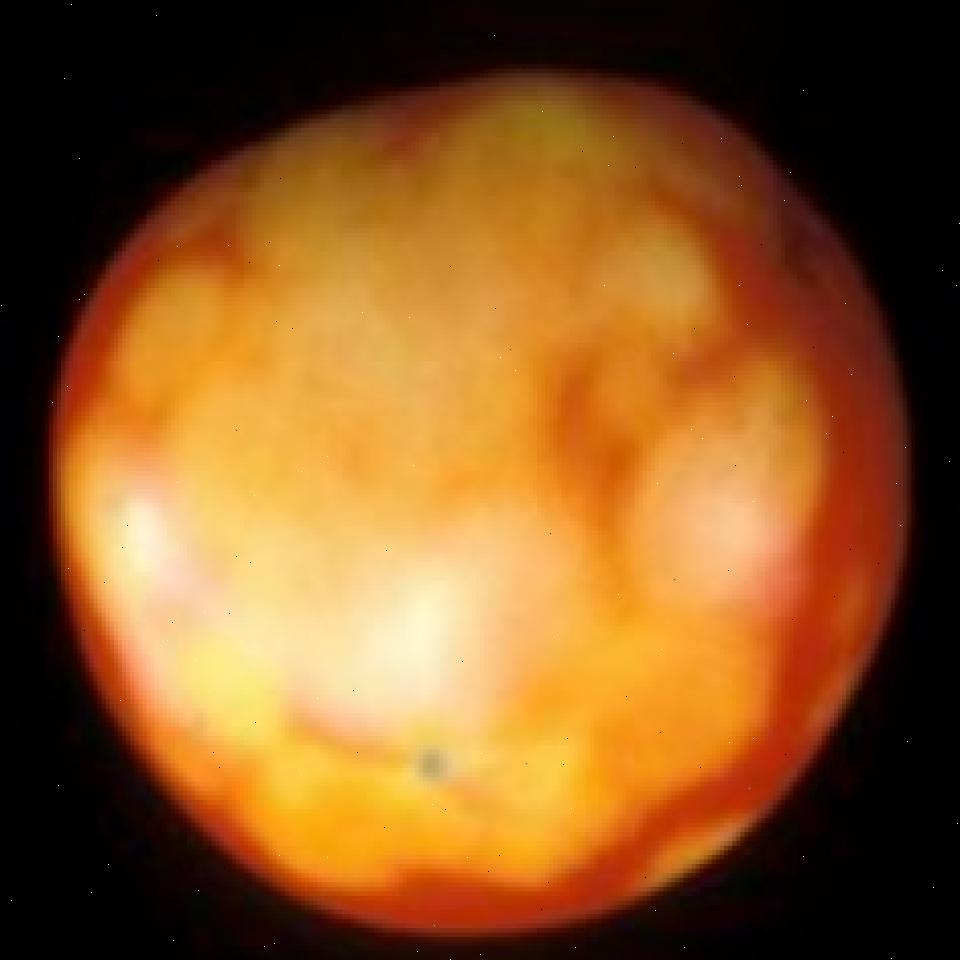Spotted wilt Virus: (53, 69, 903, 937)
